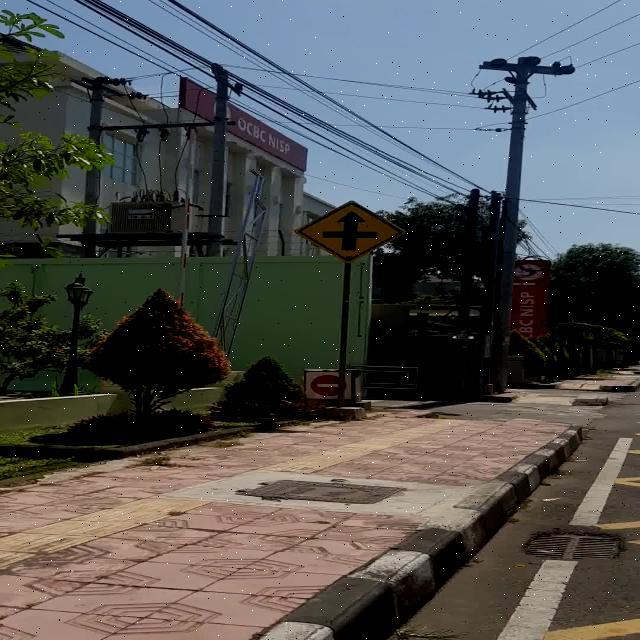Persimpangan 3 Prioritas: (294, 200, 406, 264)
